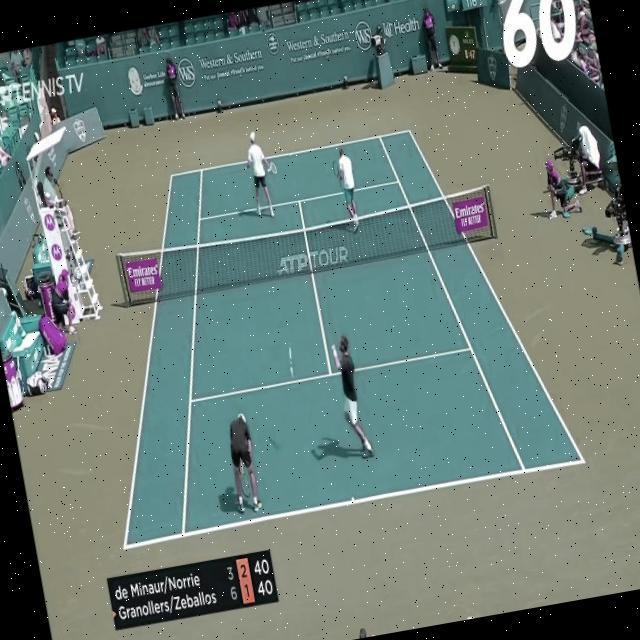court: (59, 109, 586, 550)
net: (114, 182, 499, 305)
player: (328, 332, 376, 462), (220, 410, 264, 516)
